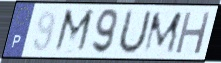9: (89, 8, 120, 56), (31, 9, 59, 53)
H: (173, 10, 214, 56)
M: (51, 7, 97, 55), (141, 10, 185, 55)
U: (115, 7, 154, 56)
